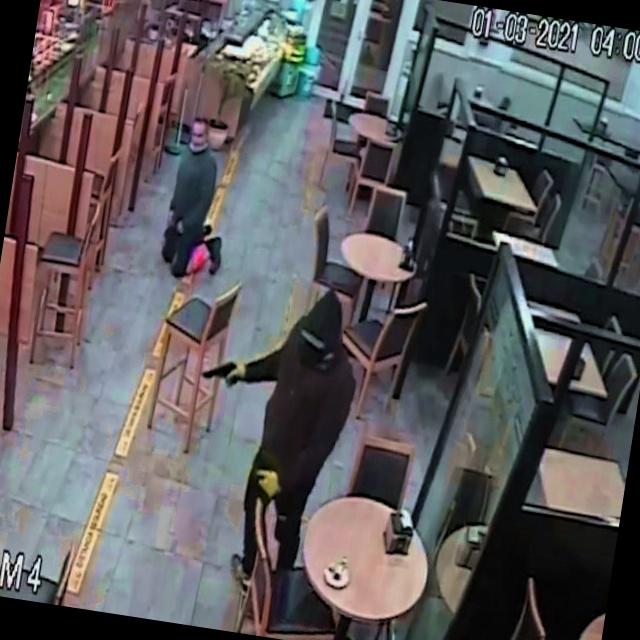gun: (187, 342, 256, 408)
